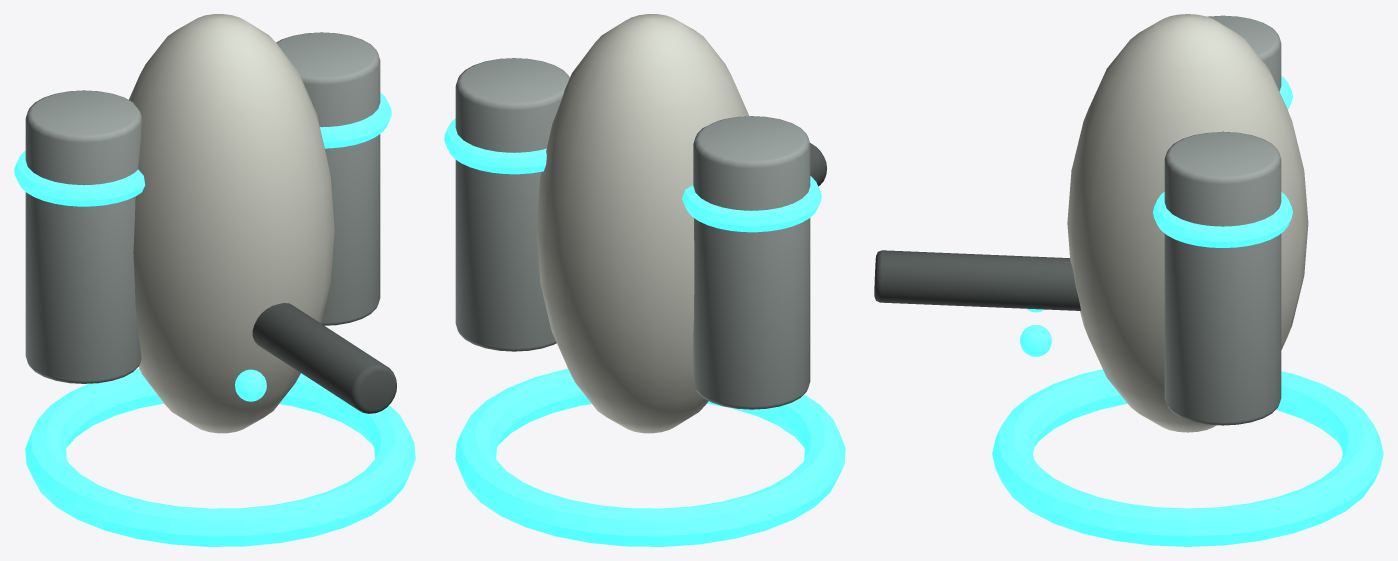
File: card_cryo.glb
3 views of the same model, side by side, from view 1: azimuth 30°, elevation 25°; view 2: azimuth 150°, elevation 25°; view 3: azimuth 270°, elevation 25° (orthographic).
Visible parts, largest first — view 1: card_cryo; view 2: card_cryo; view 3: card_cryo.
Boxes of the visible parts, bbox=[...] form: card_cryo: bbox=[14, 14, 415, 546]; card_cryo: bbox=[444, 14, 845, 546]; card_cryo: bbox=[874, 14, 1383, 546].
Bounding box in the file's own units: 1.42 × 1.71 × 1.74.
